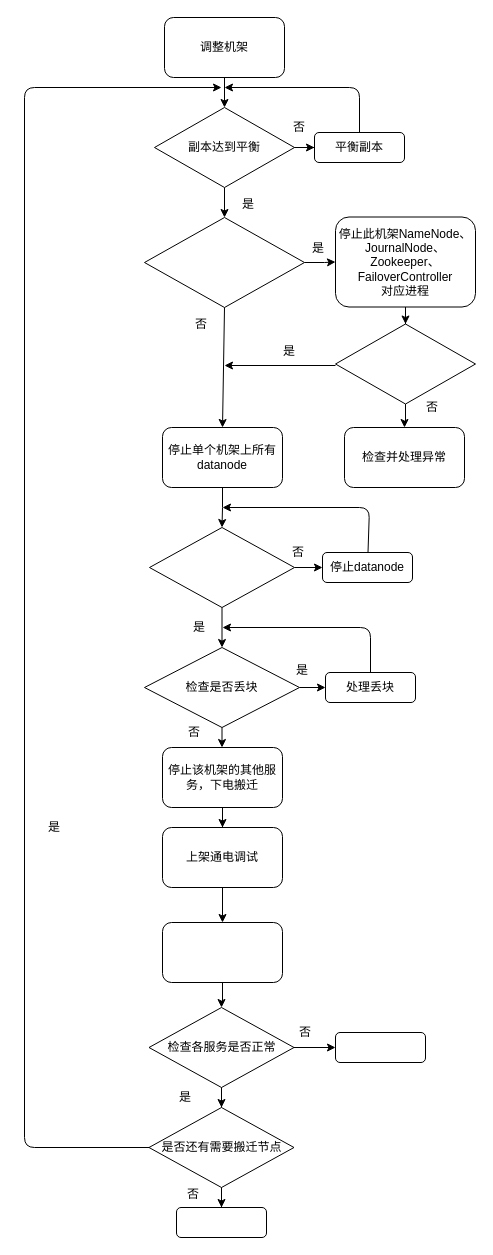
The diagram is 493 pixels wide and 1255 high, and some of its shapes have lost their labels. Each missing label, with the centre of its shape:
"datanode是否全部dead" goes at pixel 221 567.
"处理异常" goes at pixel 380 1047.
"完成" goes at pixel 221 1222.
"机架包含NameNode、Journalnode、Zookeeper" goes at pixel 224 262.
"检查对应服务是否正常" goes at pixel 405 363.
"检查系统并启动对应进程" goes at pixel 222 952.
